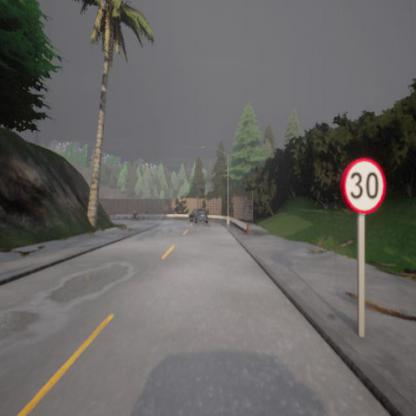traffic_sign_30: (342, 158, 386, 213)
vehicle: (189, 207, 208, 225)
